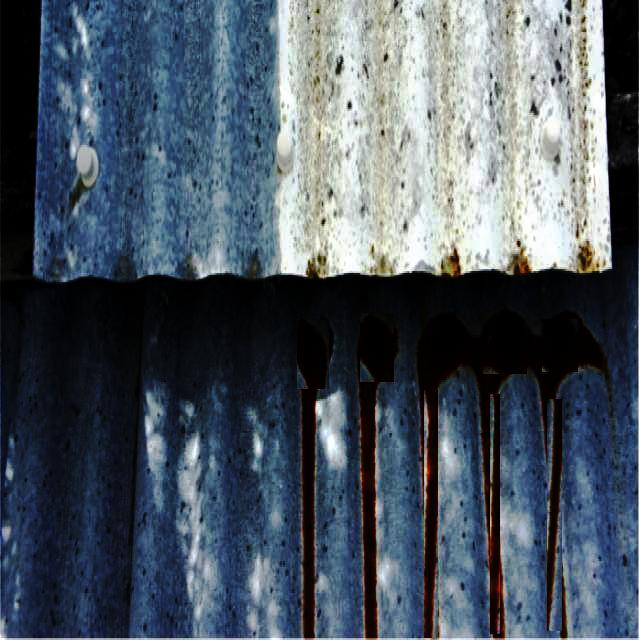Corrosion: (419, 309, 609, 639), (358, 315, 399, 640), (297, 319, 333, 640)
